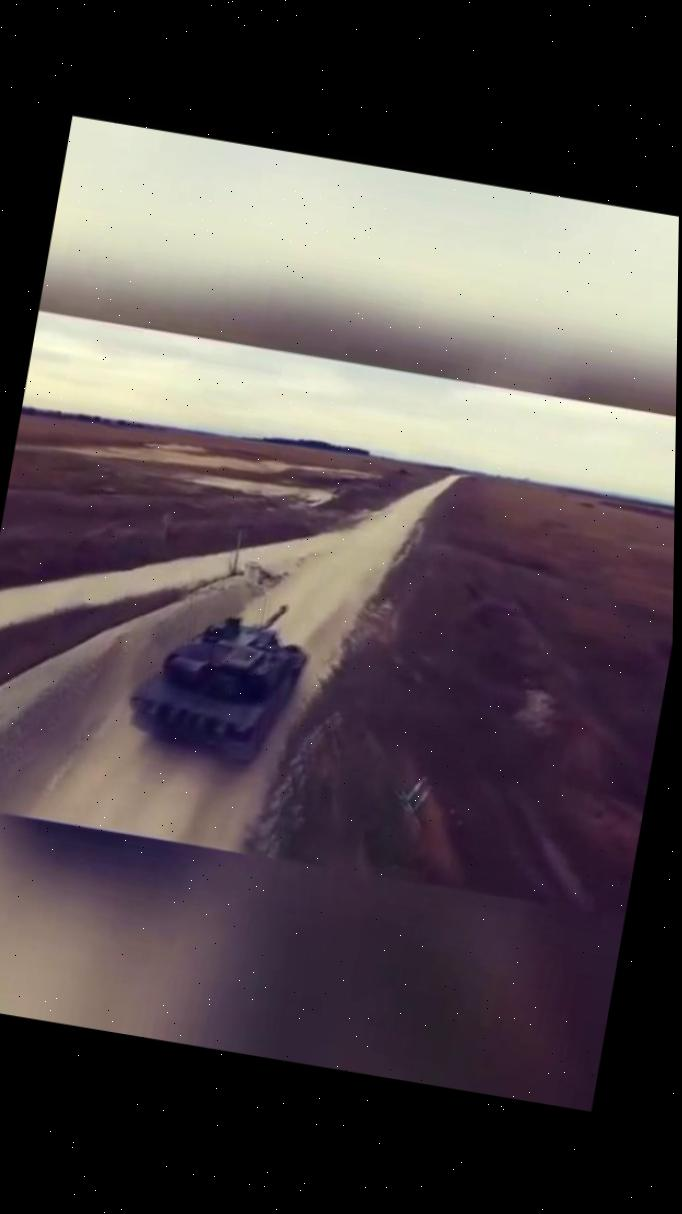tank: (120, 582, 317, 775)
